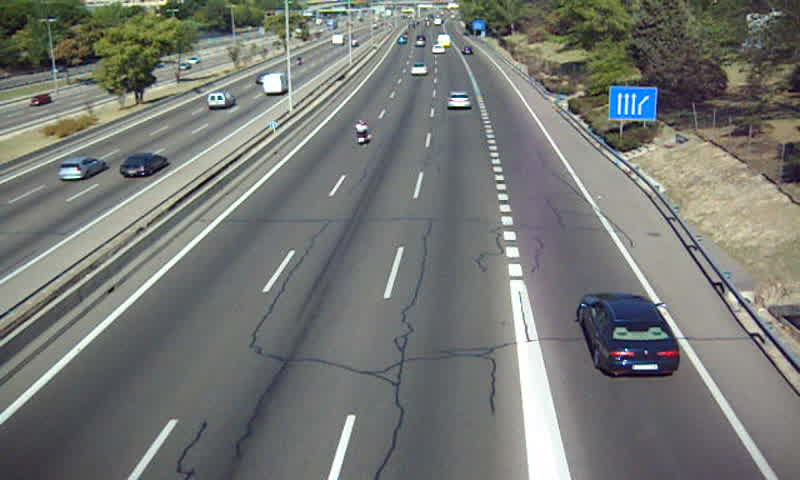car: (577, 294, 680, 377), (446, 91, 472, 109), (409, 62, 429, 78)
motorcycle: (354, 119, 372, 147)
